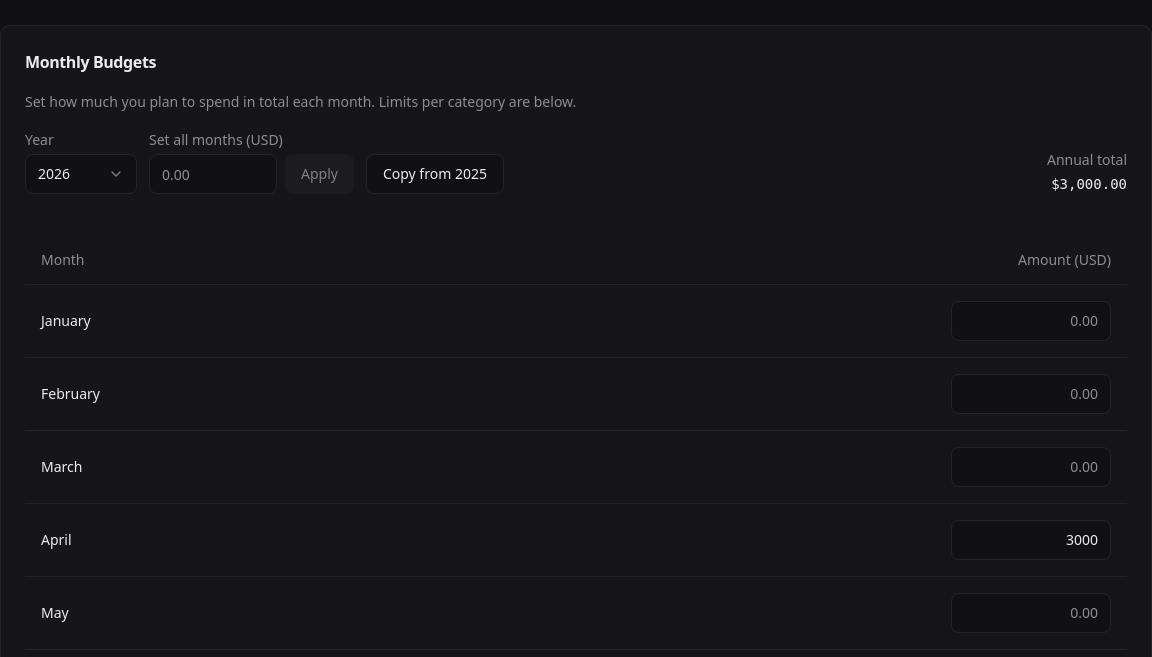
Budgets page › Monthly Budgets panel — as admin › year change with unsaved changes opens discard dialog and respects Keep editing
Clear the number field named "Budget for April 2026" at x=1031, y=540, box [951, 520, 1111, 560]
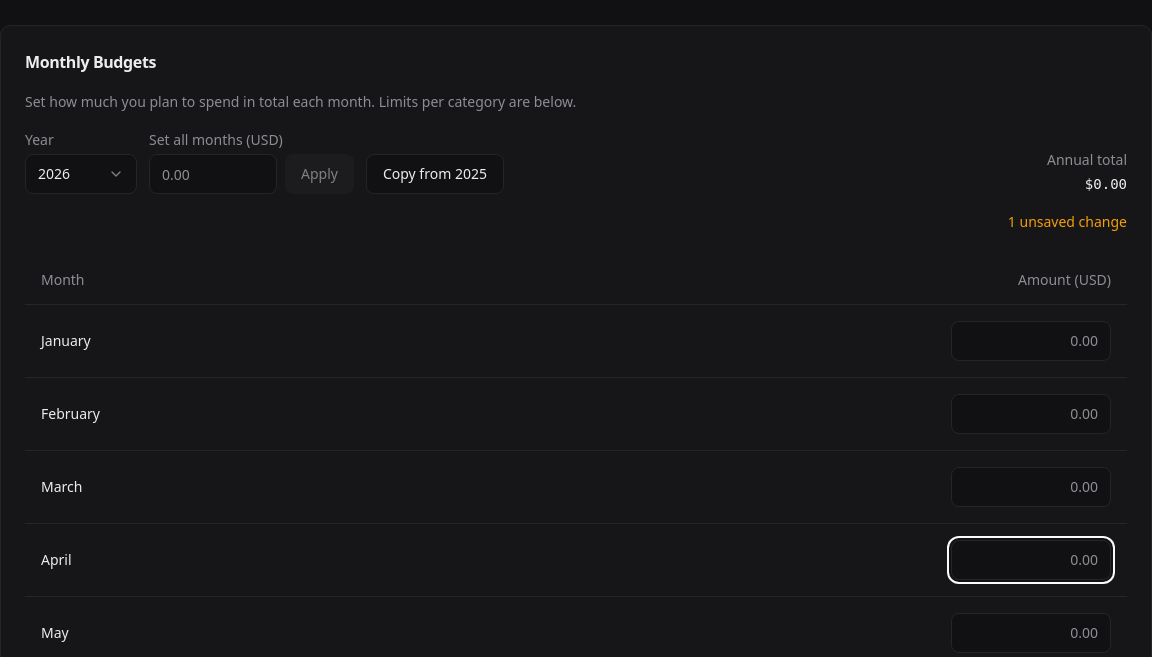
Type "4000" into the number field named "Budget for April 2026" at x=1031, y=560, box [951, 540, 1111, 580]
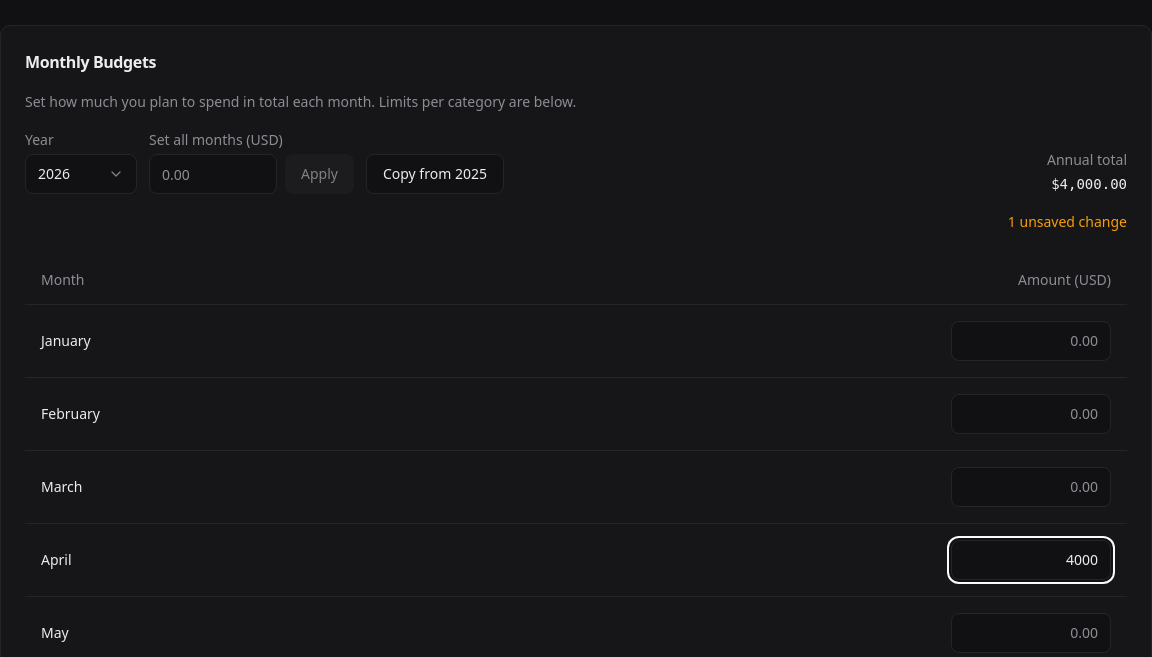
Click the dropdown named "budget year" at x=81, y=174, box [25, 154, 137, 194]
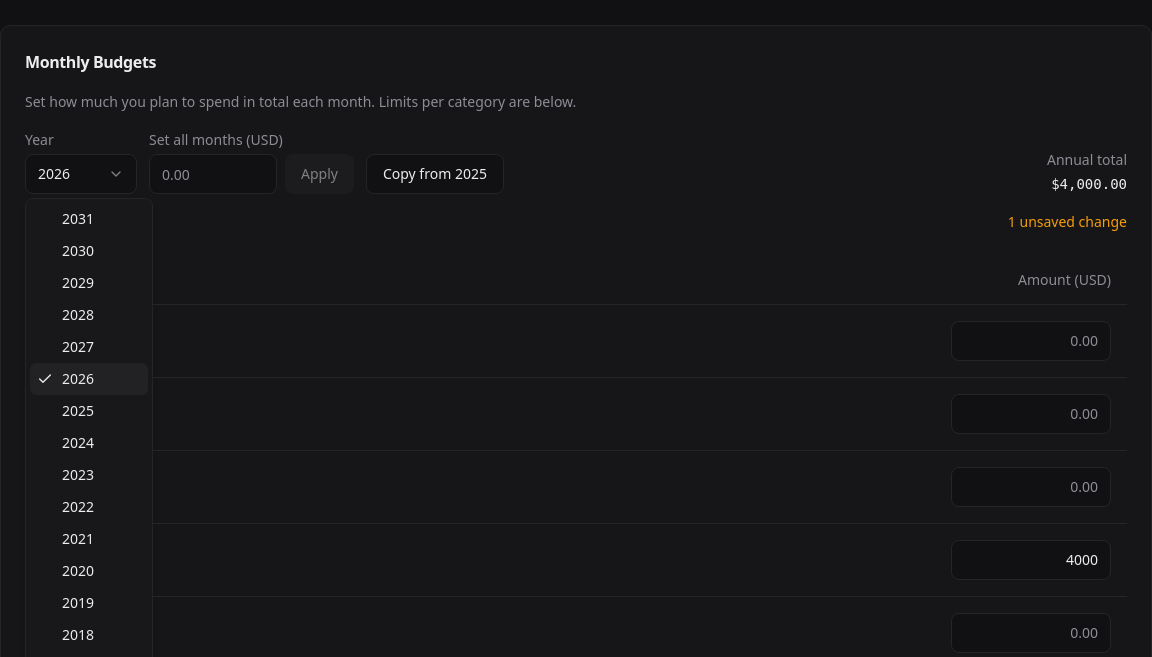
Click the option "2025" at x=78, y=410, box [62, 401, 94, 420]
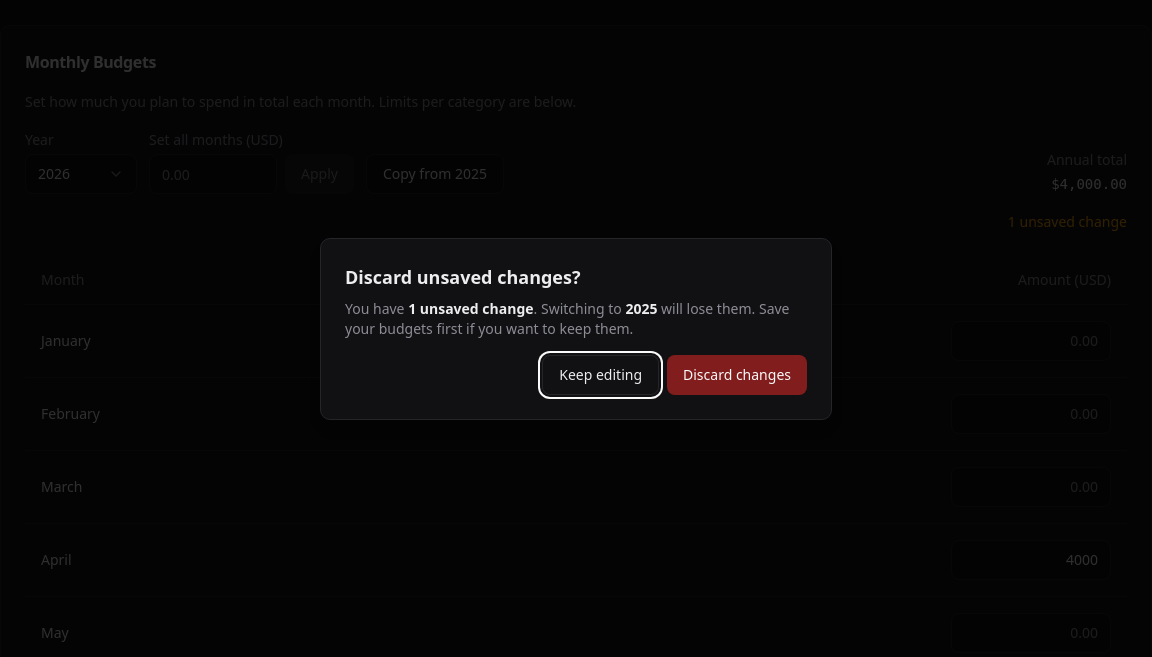
Result: the dialog shows "1 unsaved change" at [320, 238, 832, 420]
Result: the dialog shows "2025" at [625, 299, 657, 318]
Click the button "Keep editing" at x=601, y=375, box [542, 355, 659, 395]
(page scrolled)
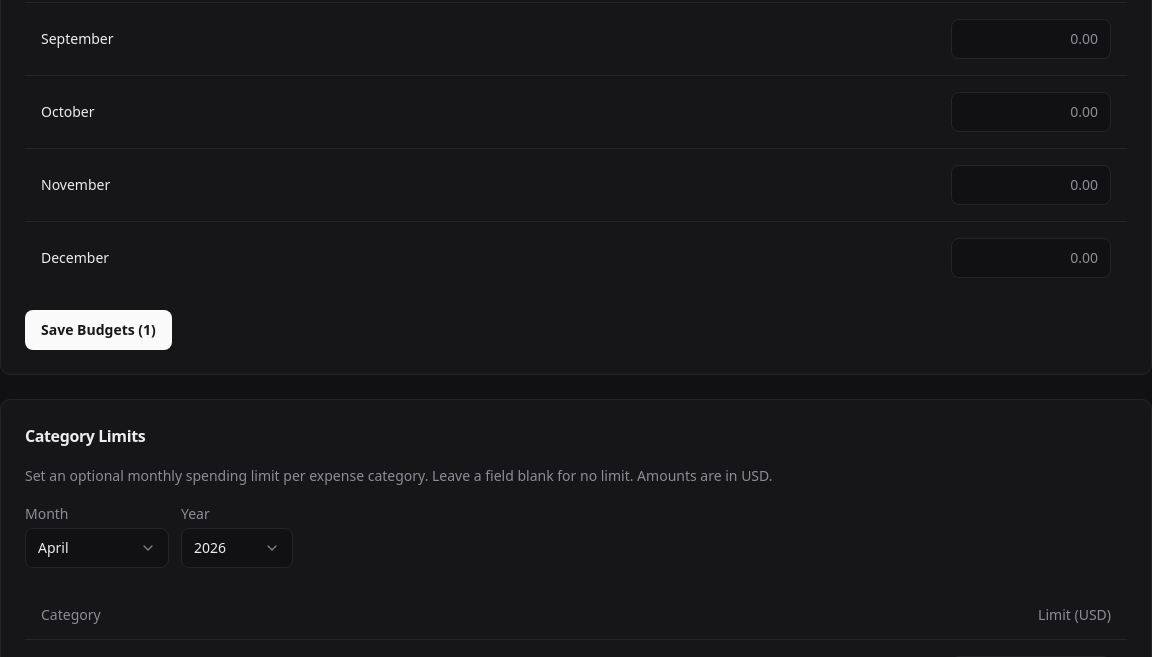
Result: the button "Save Budgets (1)" is shown at [25, 310, 172, 350]
Result: the dialog is gone
